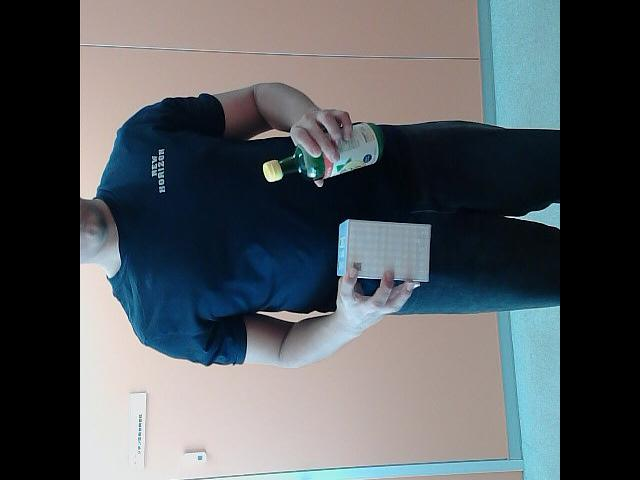Blind_box: (334, 219, 432, 280)
Lemon_sapporo: (258, 117, 382, 188)
